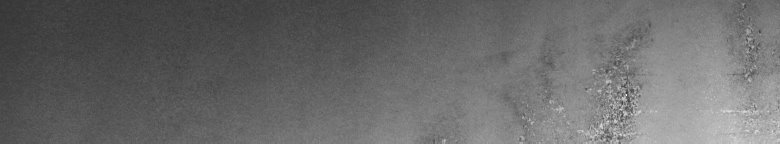hc: (520, 23, 651, 136)
